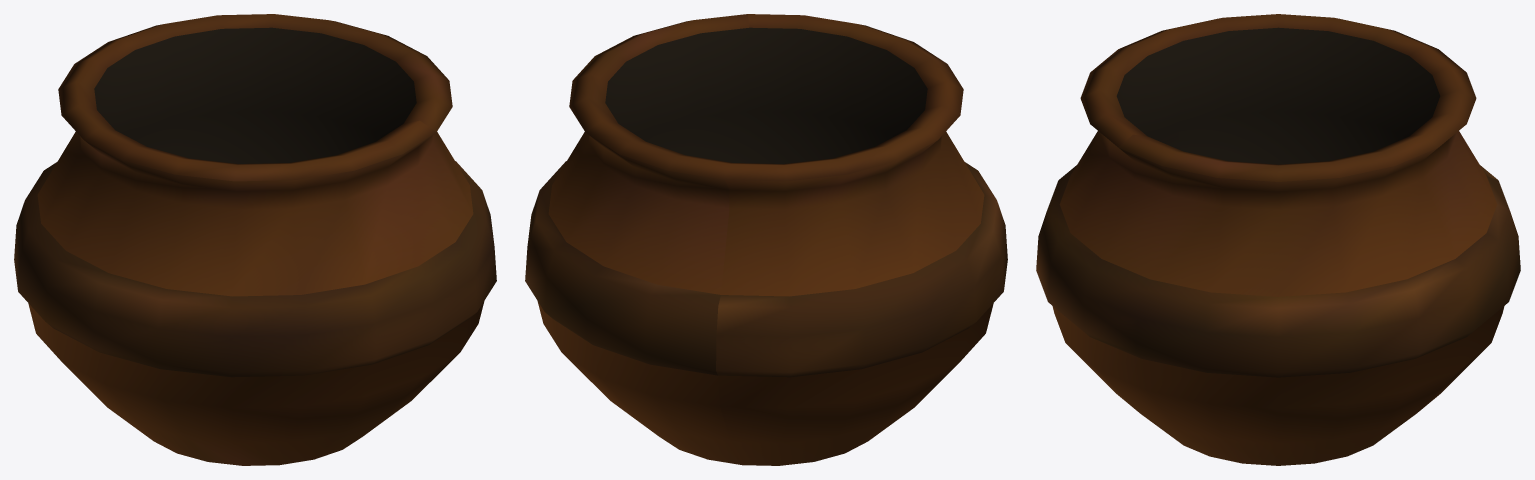
The model's file is urn.glb.
3 renders of one model, left to right at view 1: azimuth 30°, elevation 25°; view 2: azimuth 150°, elevation 25°; view 3: azimuth 270°, elevation 25°, orthographic.
Visible parts, largest first — view 1: urn; view 2: urn; view 3: urn.
Part boxes in pixels (left/top/right/bottom): urn: left=14, top=14, right=496, bottom=465; urn: left=525, top=14, right=1007, bottom=465; urn: left=1036, top=14, right=1520, bottom=465.
Size of the model in its own units: 0.6947 by 0.5163 by 0.6947.
